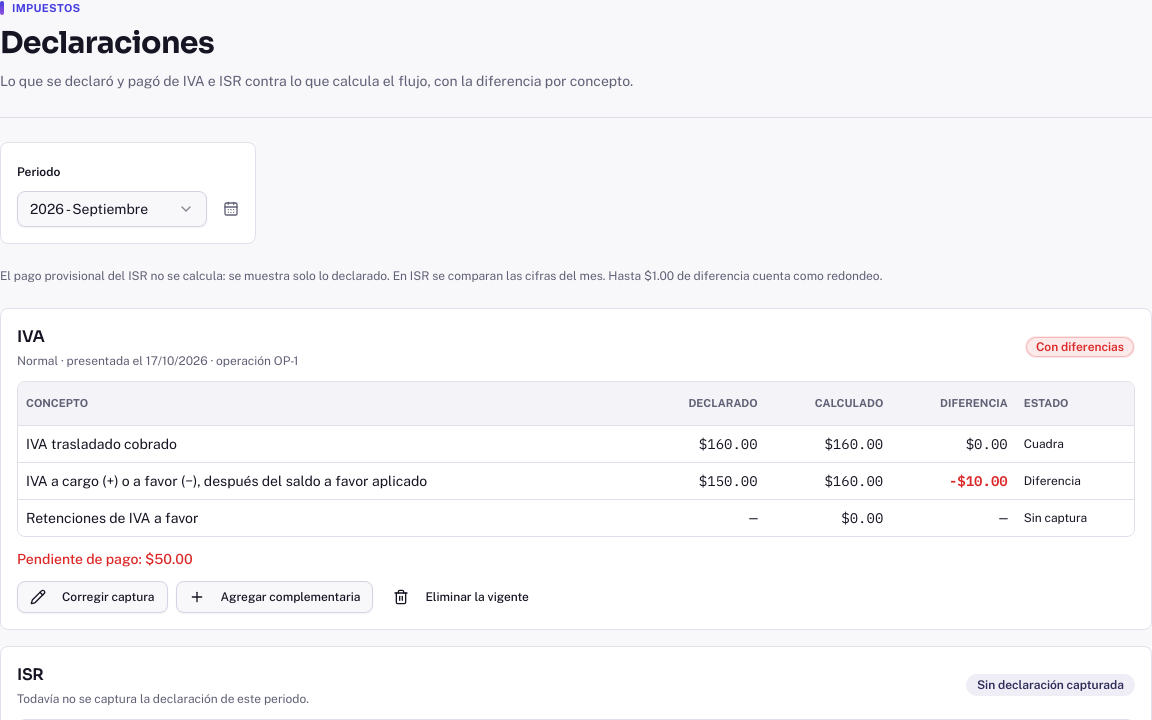
Test case: DeclaracionesPantalla › muestra el error del servidor al guardar (409) y mantiene el diálogo
The image size is (1152, 720).
Click the button "Corregir captura" at (92,597), box [17,581,168,613]
(page scrolled)
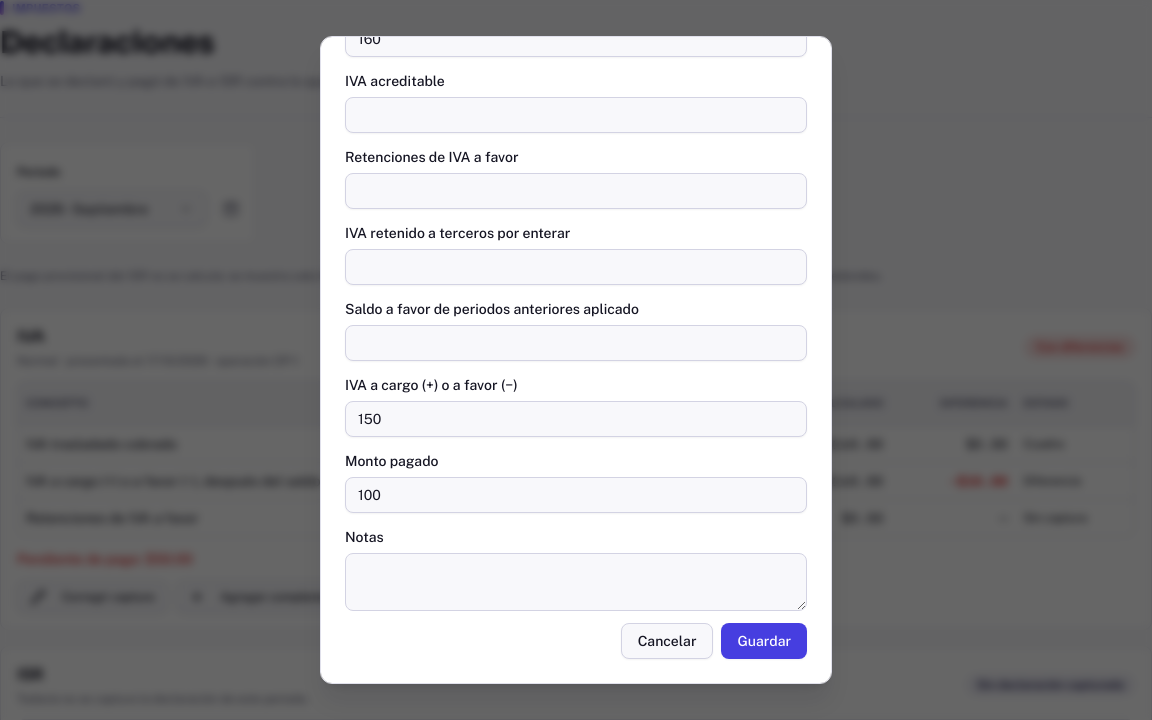
Click the button "Guardar" at (764,641), box [722,623,807,659]
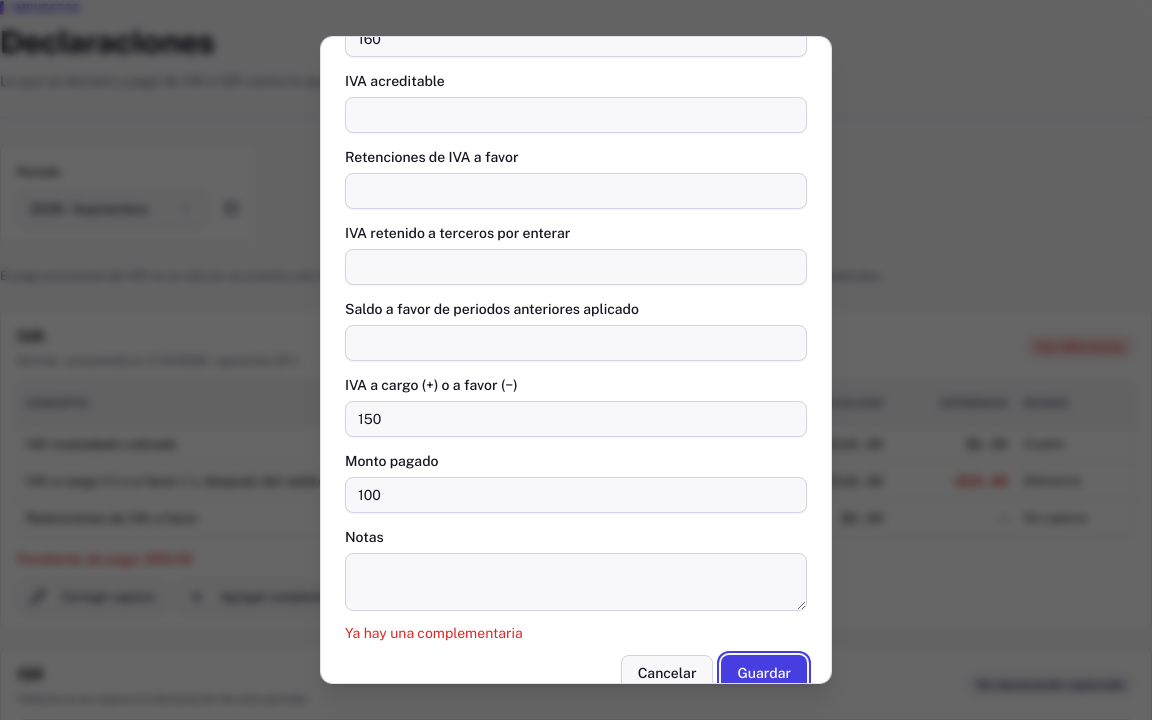
Result: the dialog is shown at [320,36,832,684]
Result: the message reads "Ya hay una complementaria" at [345,625,523,641]
